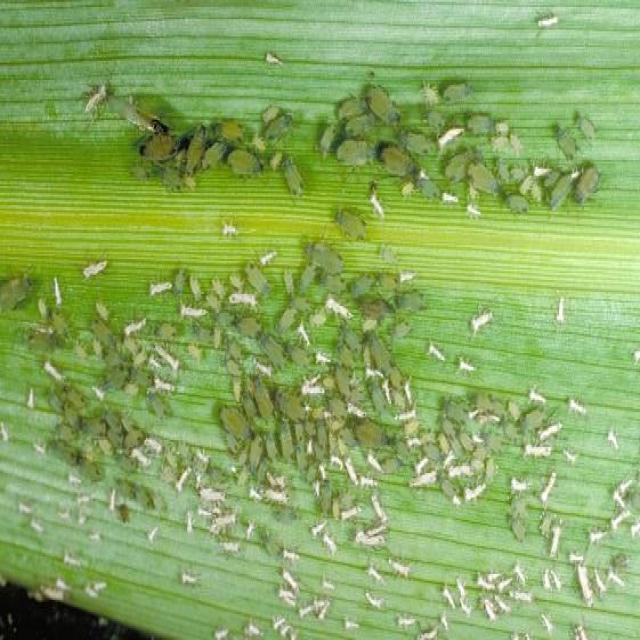Aphid-Grouped-: (18, 220, 484, 534), (115, 64, 618, 221)
